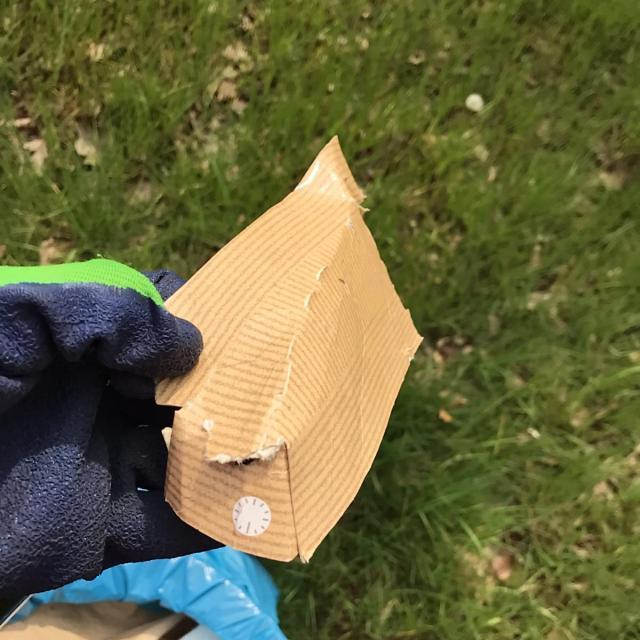Paper: (151, 132, 425, 570)
